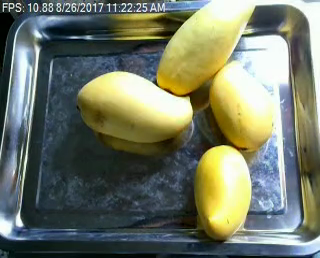Mango: (155, 1, 255, 95), (74, 71, 191, 144), (209, 61, 274, 152), (196, 144, 252, 241)
